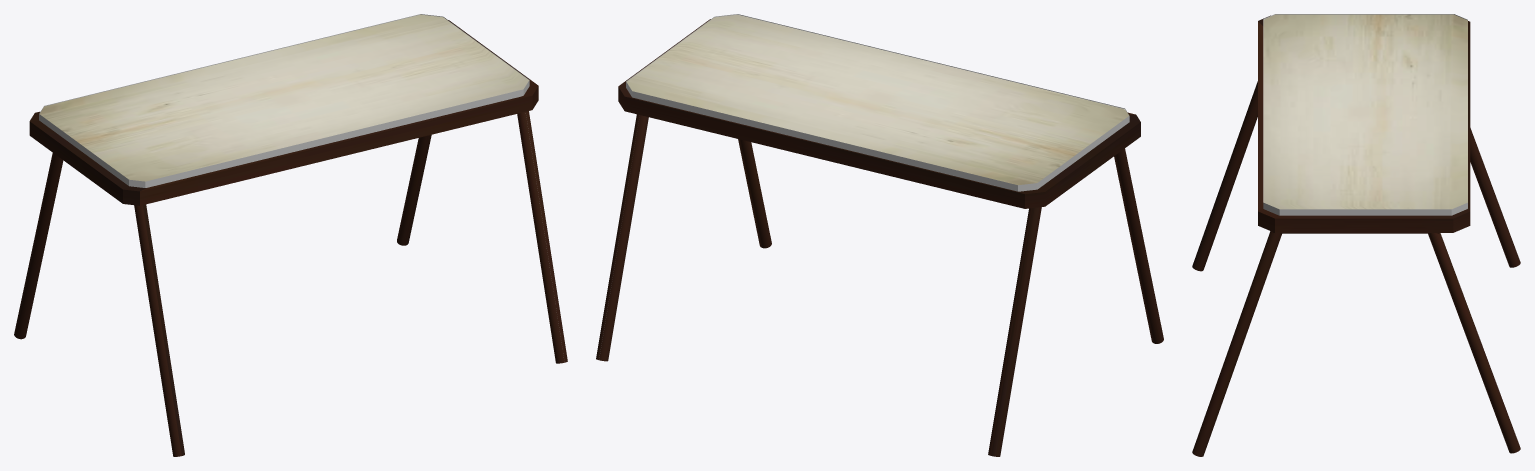
Rendered from MesaAulas.obj.
The picture shows the model from 3 angles, left to right: view 1: azimuth 30°, elevation 25°; view 2: azimuth 150°, elevation 25°; view 3: azimuth 270°, elevation 25°; orthographic projection. The views are drawn at different scales.
Parts seen in each view (by area): view 1: Cylinder; view 2: Cylinder; view 3: Cylinder.
Boxes of the visible parts, x1,y1,x2,y2 form: Cylinder: (14,14,567,456); Cylinder: (596,14,1163,456); Cylinder: (1192,14,1520,456).
Size of the model in its own units: 4.52 by 2.6 by 3.09.
